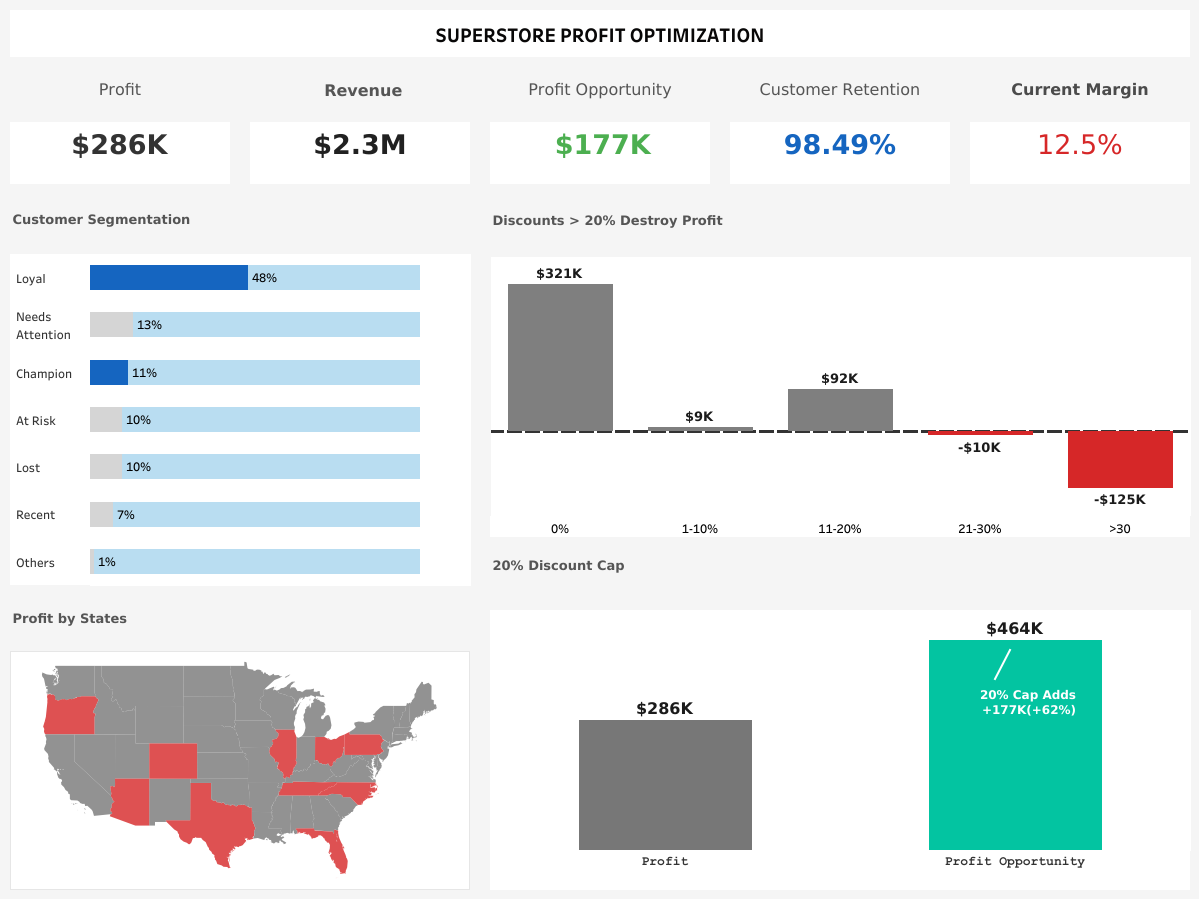

The page's visual inventory and layout, read from the dashboard file:
{"tool":"tableau","page":{"name":"SUPERSTORE PROFIT OPTIMIZATION","canvas":[1200,900],"ordinal":0},"visuals":[{"type":"text","box":[0,0,1200,67]},{"type":"text","box":[0,67,240,44.7]},{"type":"text","box":[240,67,240,45]},{"type":"text","box":[480,67,240,45]},{"type":"text","box":[720,67,240,45]},{"type":"text","box":[960,67,240,45]},{"type":"worksheet","title":"profit","mark":"Polygon","box":[0,111.7,240,82.3]},{"type":"worksheet","title":"sales","mark":"Automatic","box":[240,111.7,240,82.3]},{"type":"worksheet","title":"opportunity","mark":"Polygon","box":[480,111.7,240,82.3]},{"type":"worksheet","title":"retention rate ","mark":"Polygon","box":[720,111.7,240,82.3]},{"type":"worksheet","title":"margin ","mark":"Polygon","box":[960,111.7,240,82.3]},{"type":"text","box":[0,194,480,50.5]},{"type":"text","box":[480,194,720,52.5]},{"type":"worksheet","title":"segement ","mark":"Bar","rows":["F1"],"cols":["F4","Calculation_1549238313776357394"],"box":[0,244.5,480,350.5]},{"type":"worksheet","title":"Discount Impact ","mark":"Automatic","rows":["Profit"],"cols":["Discount RANGE (copy)_1549238313015865360"],"box":[480,246.5,720,300.5]},{"type":"text","box":[480,547,720,44]},{"type":"text","box":[0,594.9,480,46]},{"type":"worksheet","title":"optimized","mark":"Automatic","box":[480,600,720,300]},{"type":"worksheet","title":"Profit by States","mark":"Automatic","box":[0,640.9,480,259]}]}

Visuals, with their boxes in screenshot pixels (x1, y1, x2, y2), scaled from the page's 1200x900 canvas onto the 1199x899 screenshot:
text: <box>0,0,1198,67</box>
text: <box>0,67,240,112</box>
text: <box>240,67,480,112</box>
text: <box>480,67,719,112</box>
text: <box>719,67,959,112</box>
text: <box>959,67,1198,112</box>
"profit" worksheet (Polygon marks): <box>0,112,240,194</box>
"sales" worksheet: <box>240,112,480,194</box>
"opportunity" worksheet (Polygon marks): <box>480,112,719,194</box>
"retention rate " worksheet (Polygon marks): <box>719,112,959,194</box>
"margin " worksheet (Polygon marks): <box>959,112,1198,194</box>
text: <box>0,194,480,244</box>
text: <box>480,194,1198,246</box>
"segement " worksheet (Bar marks): <box>0,244,480,594</box>
"Discount Impact " worksheet: <box>480,246,1198,546</box>
text: <box>480,546,1198,590</box>
text: <box>0,594,480,640</box>
"optimized" worksheet: <box>480,599,1198,898</box>
"Profit by States" worksheet: <box>0,640,480,898</box>
